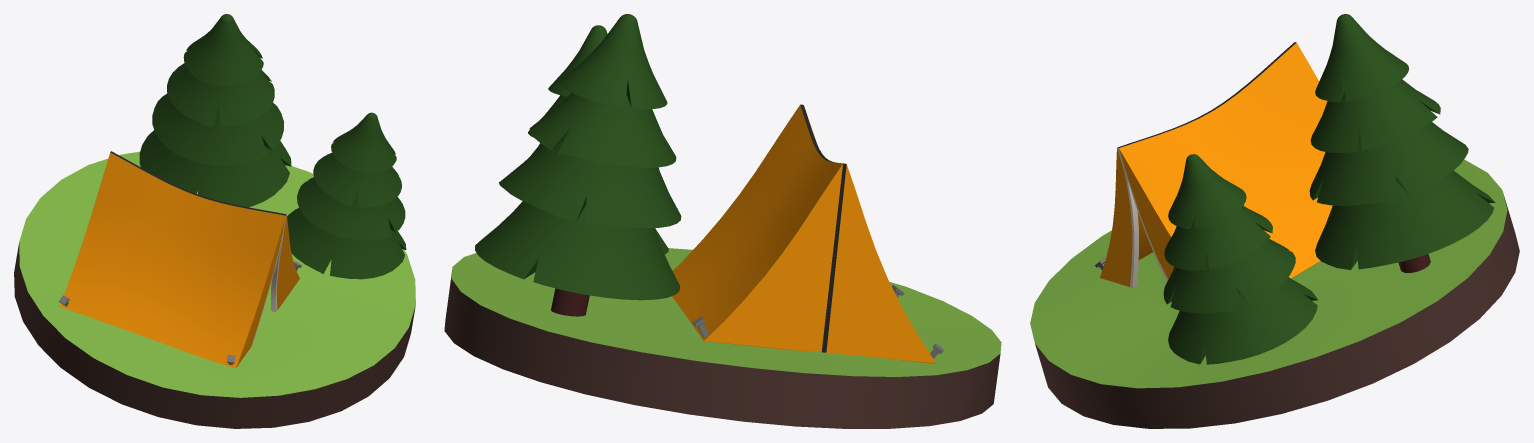
The model's file is camping.glb.
3 views of the same model, side by side, from view 1: azimuth 30°, elevation 25°; view 2: azimuth 150°, elevation 25°; view 3: azimuth 270°, elevation 25° (orthographic). The views are drawn at different scales.
Visible parts, largest first — view 1: Circle.2328; view 2: Circle.2328; view 3: Circle.2328.
Boxes of the visible parts, <box> form: Circle.2328: <box>14,14,415,428</box>; Circle.2328: <box>444,14,1001,428</box>; Circle.2328: <box>1030,14,1519,428</box>.
Size of the model in its own units: 2.38 by 2.01 by 2.36.
Materials: 1 (1 with a texture image).
